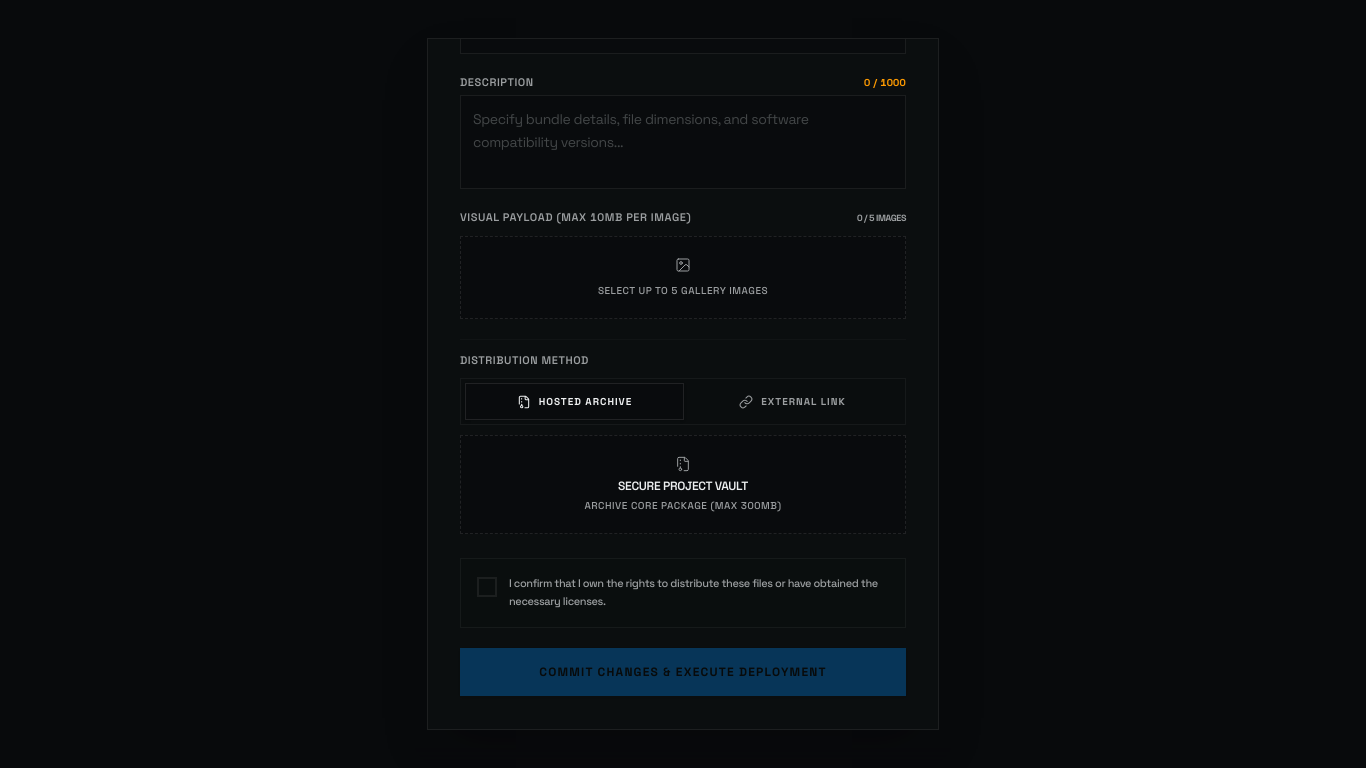
DeployAssetModal Component › switches between Distribution Methods and swaps project vault vs external link inputs
The image size is (1366, 768).
(page scrolled)
expect the text "Secure Project Vault" is shown: met, box [610,478,756,494]
expect the field with placeholder "https://..." is not shown: met
Step 1. Click the button "External Link" → (792, 402), box [684,383,901,420]
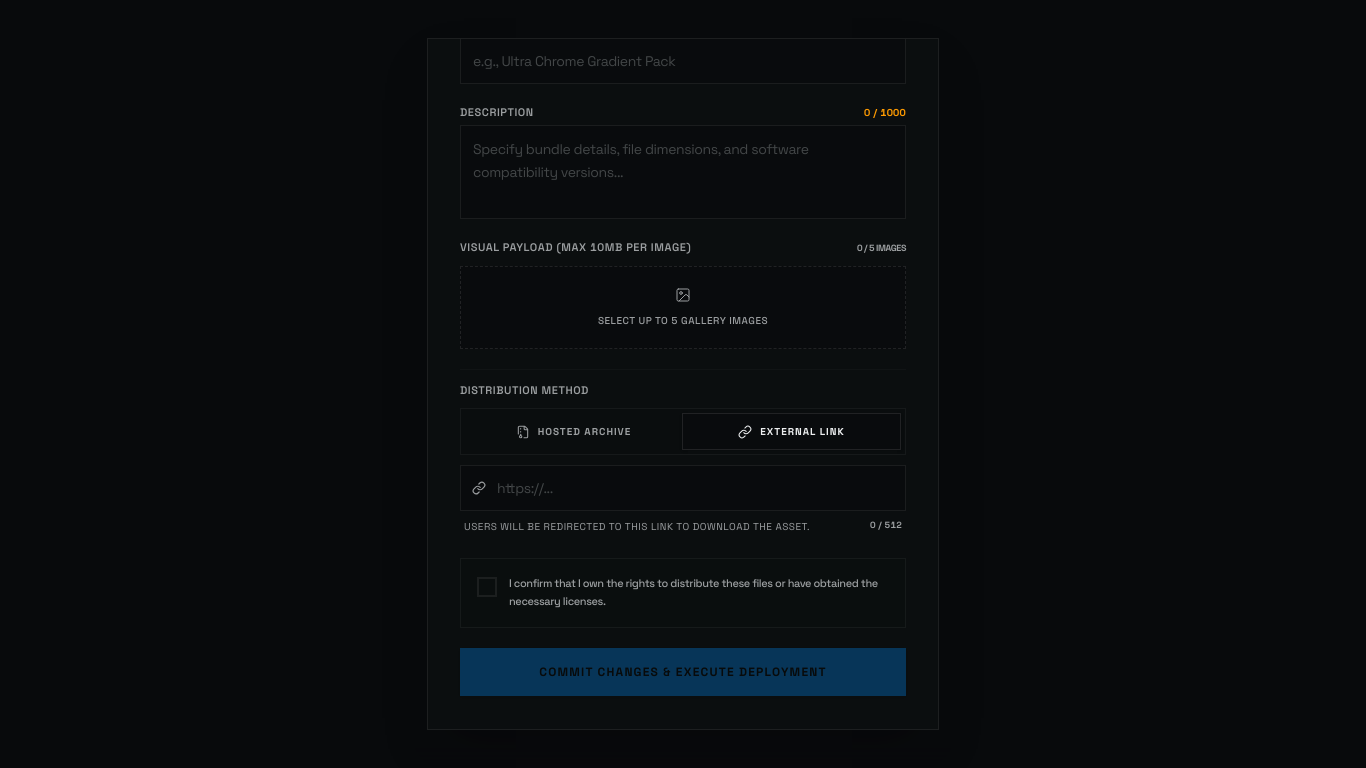
expect the text "Secure Project Vault" is gone: met
expect the field with placeholder "https://..." is shown: met, box [460,465,906,511]
